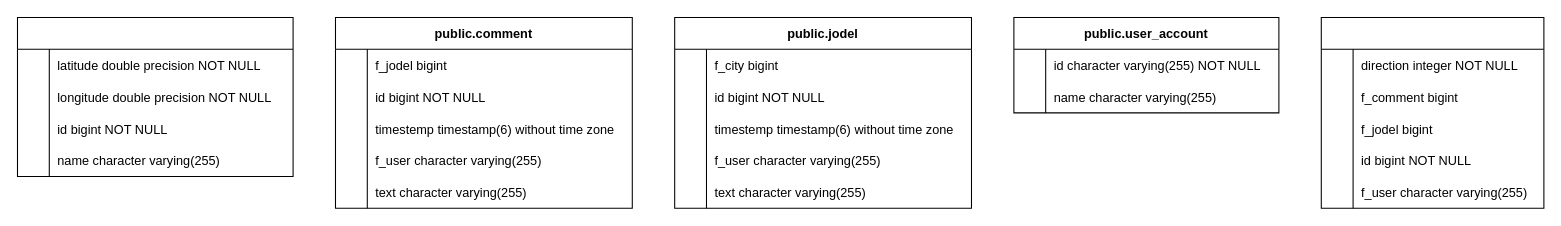
This 1561x226 diagram has some shape labels left out. The shapes that lost their labels are listed below. From the top down, each one's box as (x1, y1, x2, y2) in pixels, then its label:
(16, 16, 293, 176): public.city
(1320, 16, 1544, 208): public.vote
